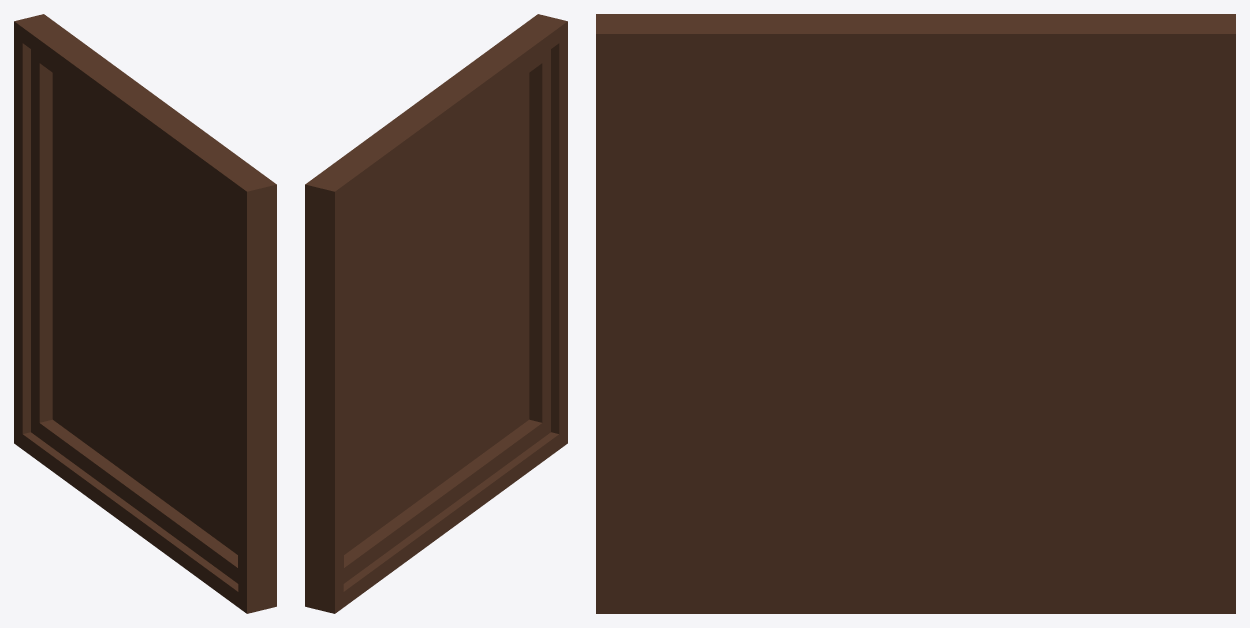
Rendered from Painting1x1.fbx.
The picture shows the model from 3 angles, left to right: view 1: azimuth 30°, elevation 25°; view 2: azimuth 150°, elevation 25°; view 3: azimuth 270°, elevation 25°; orthographic projection. The views are drawn at different scales.
Visible parts, largest first — view 1: SquarePainting; view 2: SquarePainting; view 3: SquarePainting.
Boxes of the visible parts, x1=… form: SquarePainting: x1=14, y1=14, x2=276, y2=613; SquarePainting: x1=305, y1=14, x2=567, y2=613; SquarePainting: x1=596, y1=14, x2=1235, y2=613.
Bounding box in the file's own units: 14.77 × 200 × 200.
